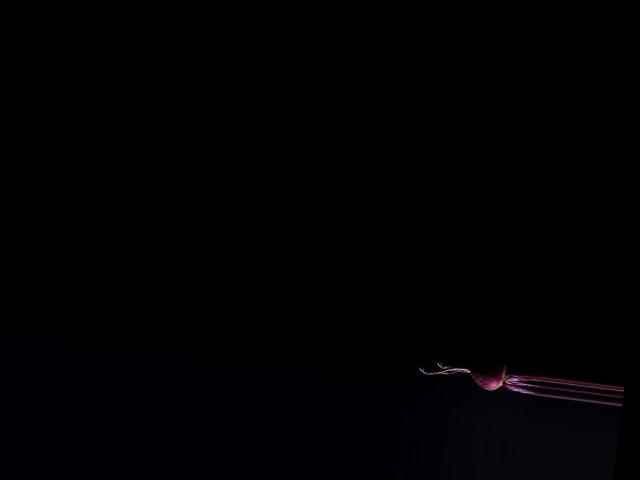beet: (417, 349, 542, 398)
